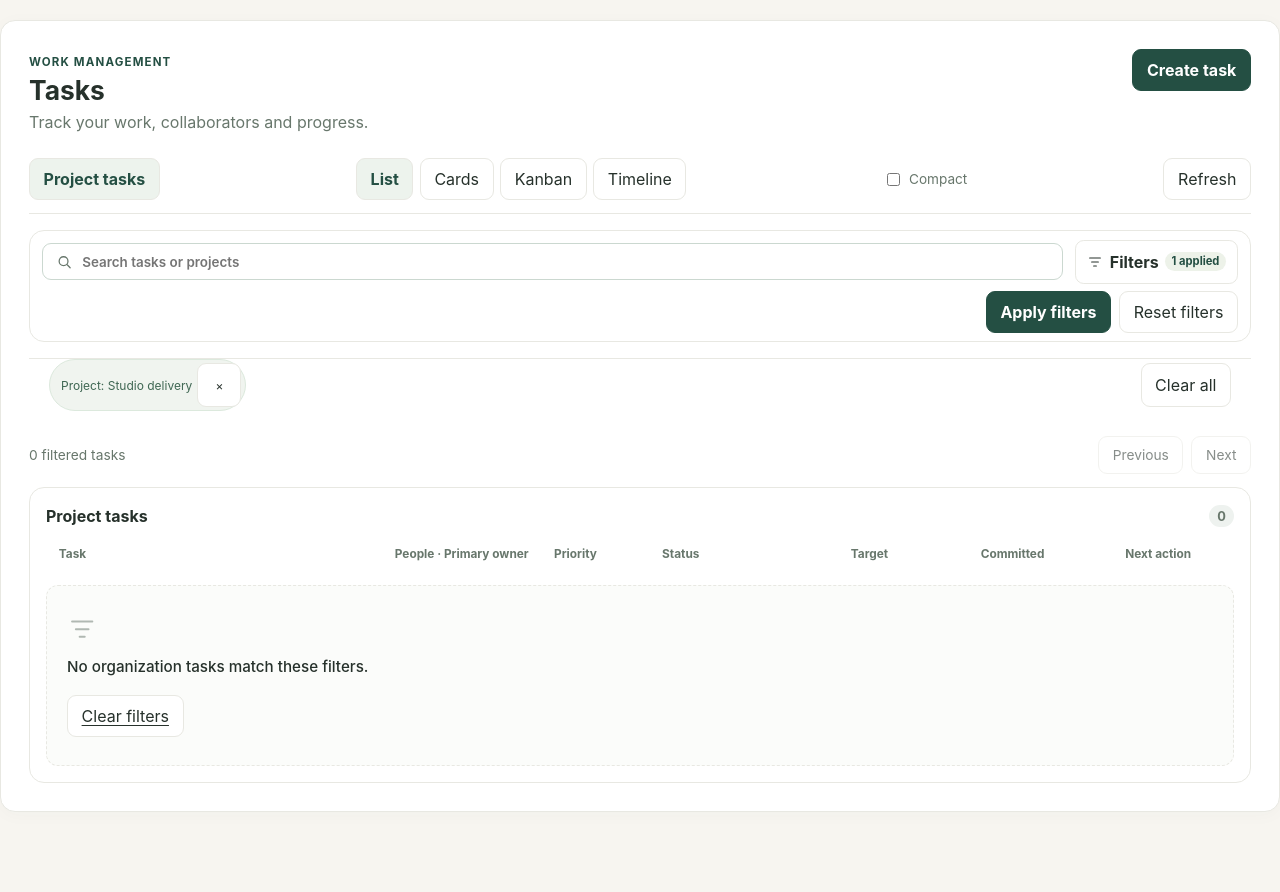
fixed project task workspace › creates with fixed project and opens the canonical ID without replacing project context
Click the button "Create task" at (1192, 70), box [1132, 49, 1251, 91]
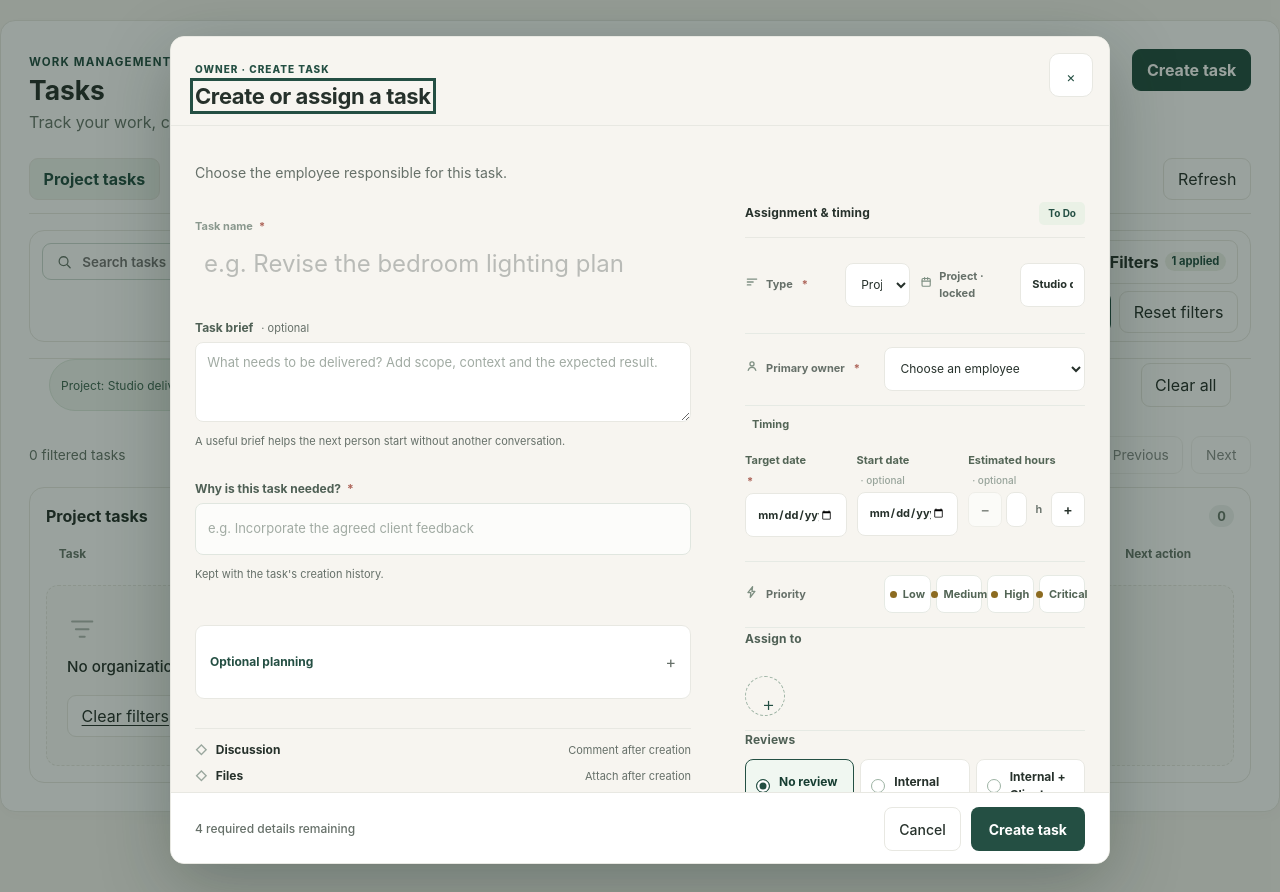
Expected: the dropdown named "Primary owner" is shown
Expected: the field labelled "Project" holds "Studio delivery", [1020, 263, 1085, 307]
Expected: the dropdown labelled "Type" shows "Project", [845, 263, 910, 307]
Select "designer@example.test" in the dropdown named "Primary owner" at (985, 369), box [884, 347, 1085, 391]
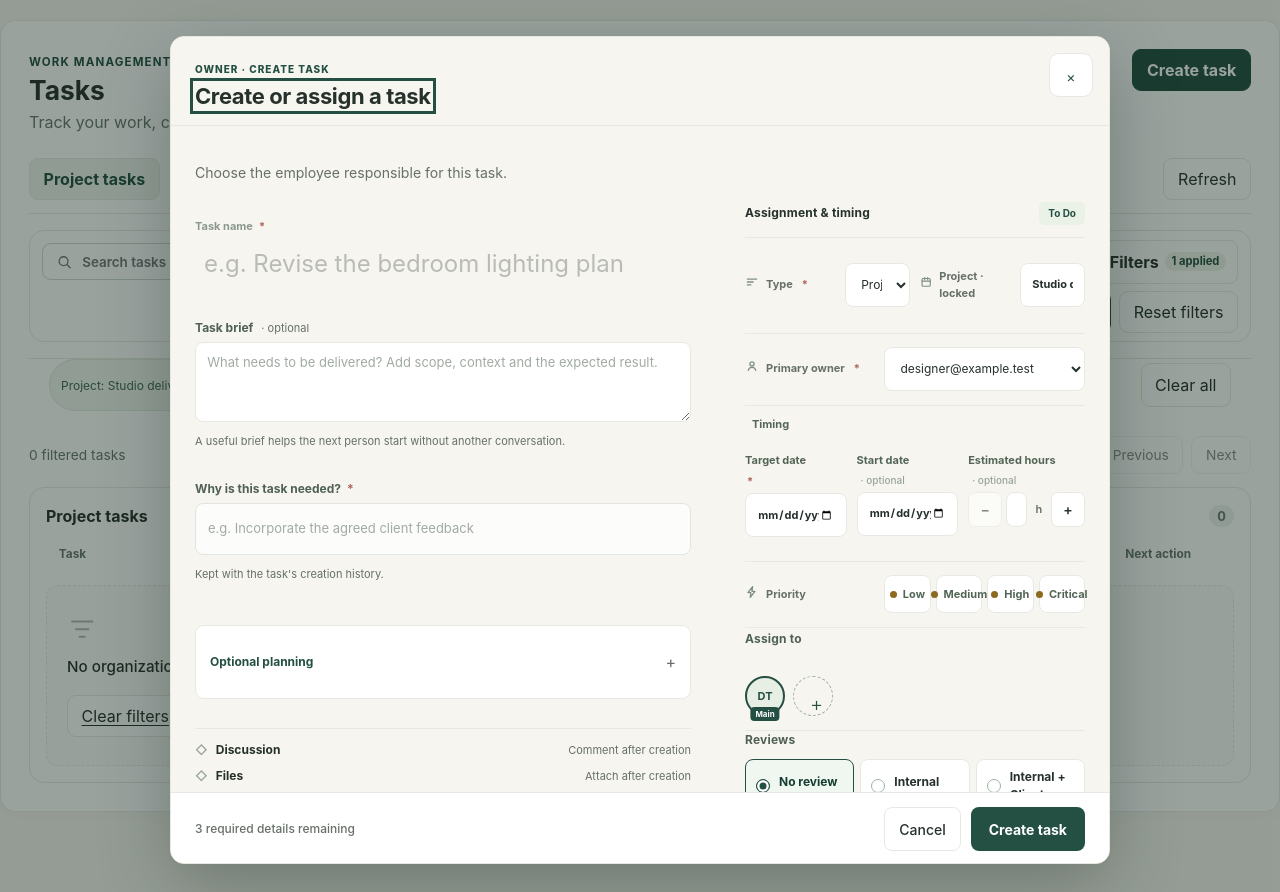
Type "Prepare layout" into the field labelled "Task name" at (443, 264), box [195, 239, 691, 289]
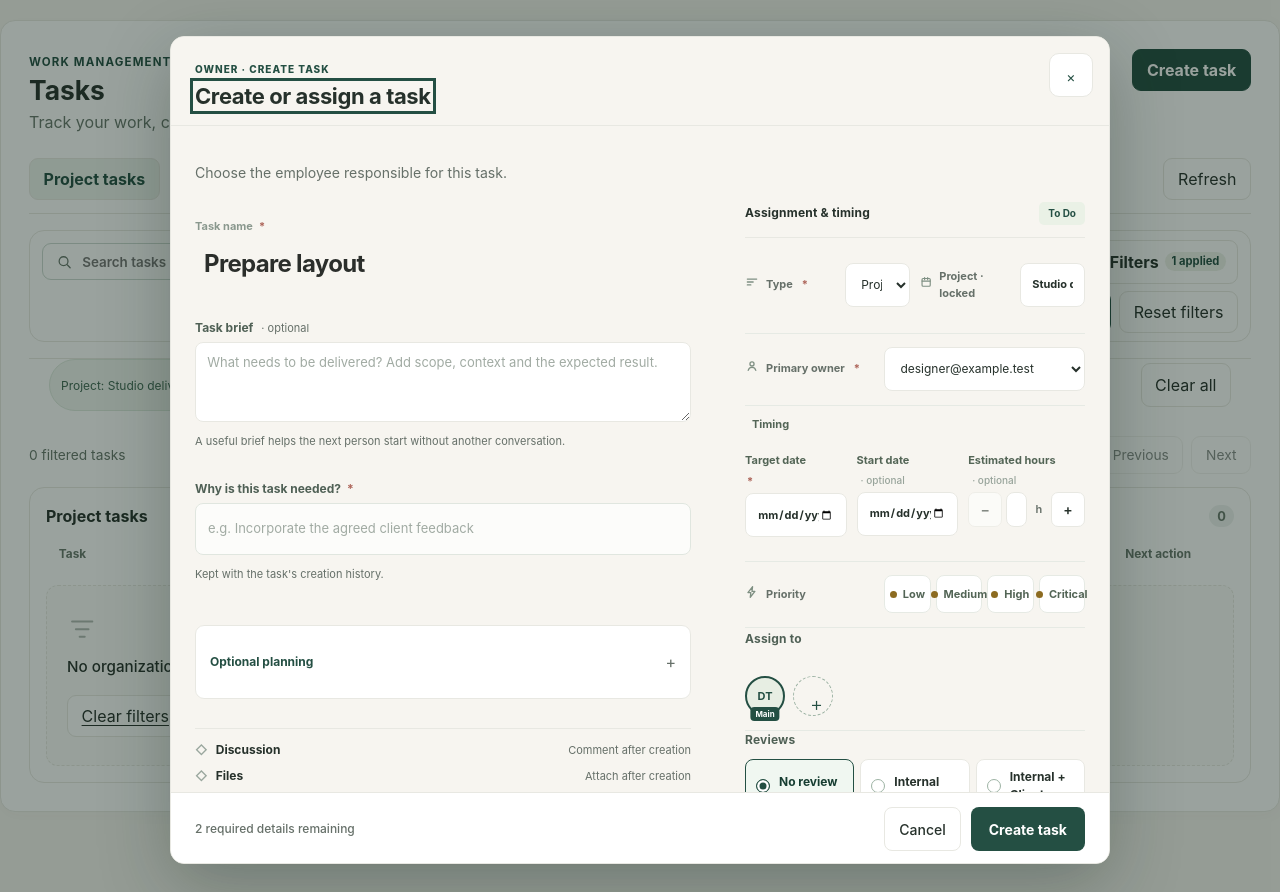
Type "2026-10-20" into the date field labelled "Target date" at (796, 515), box [745, 493, 847, 537]
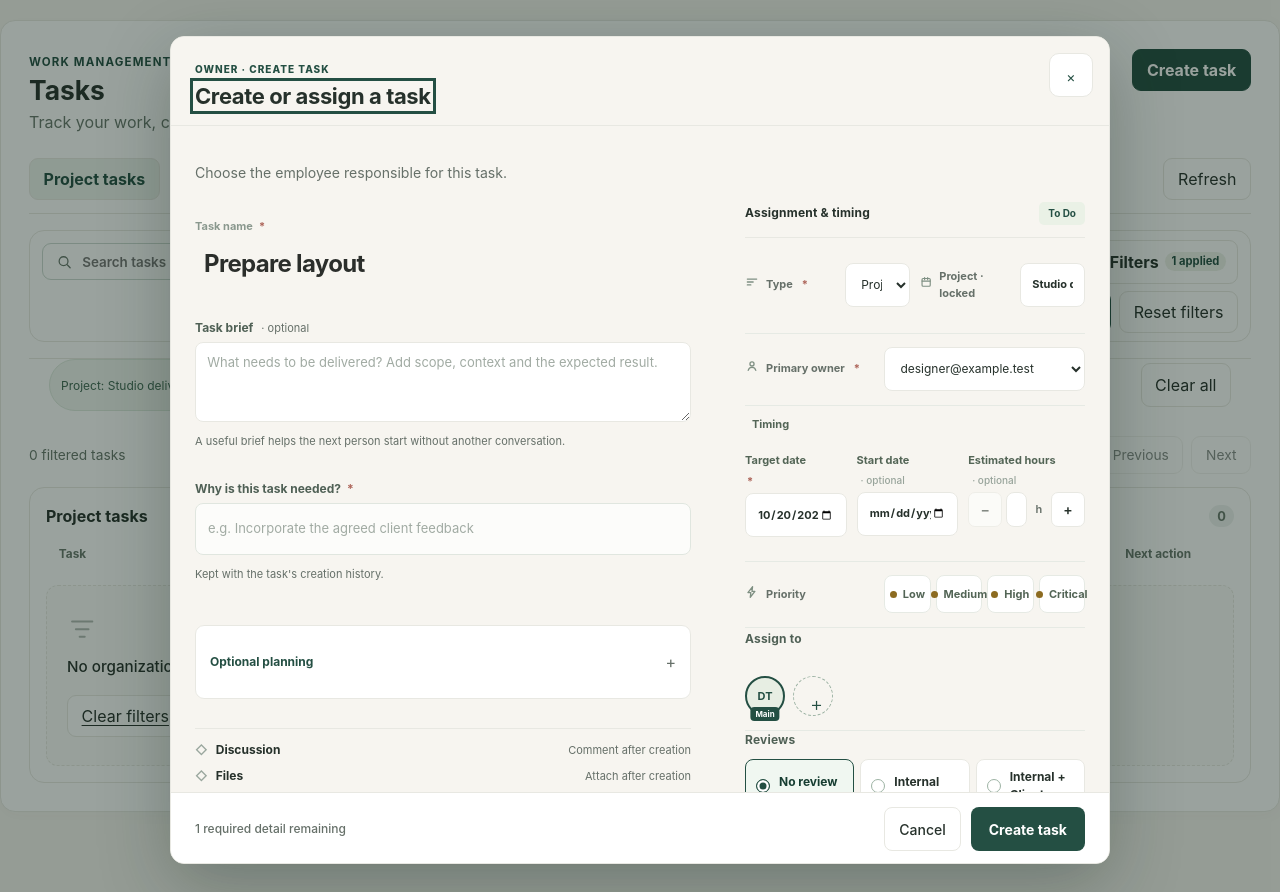
Type "Prepare agreed project layout" into the field named "Reason" at (443, 529), box [195, 503, 691, 555]
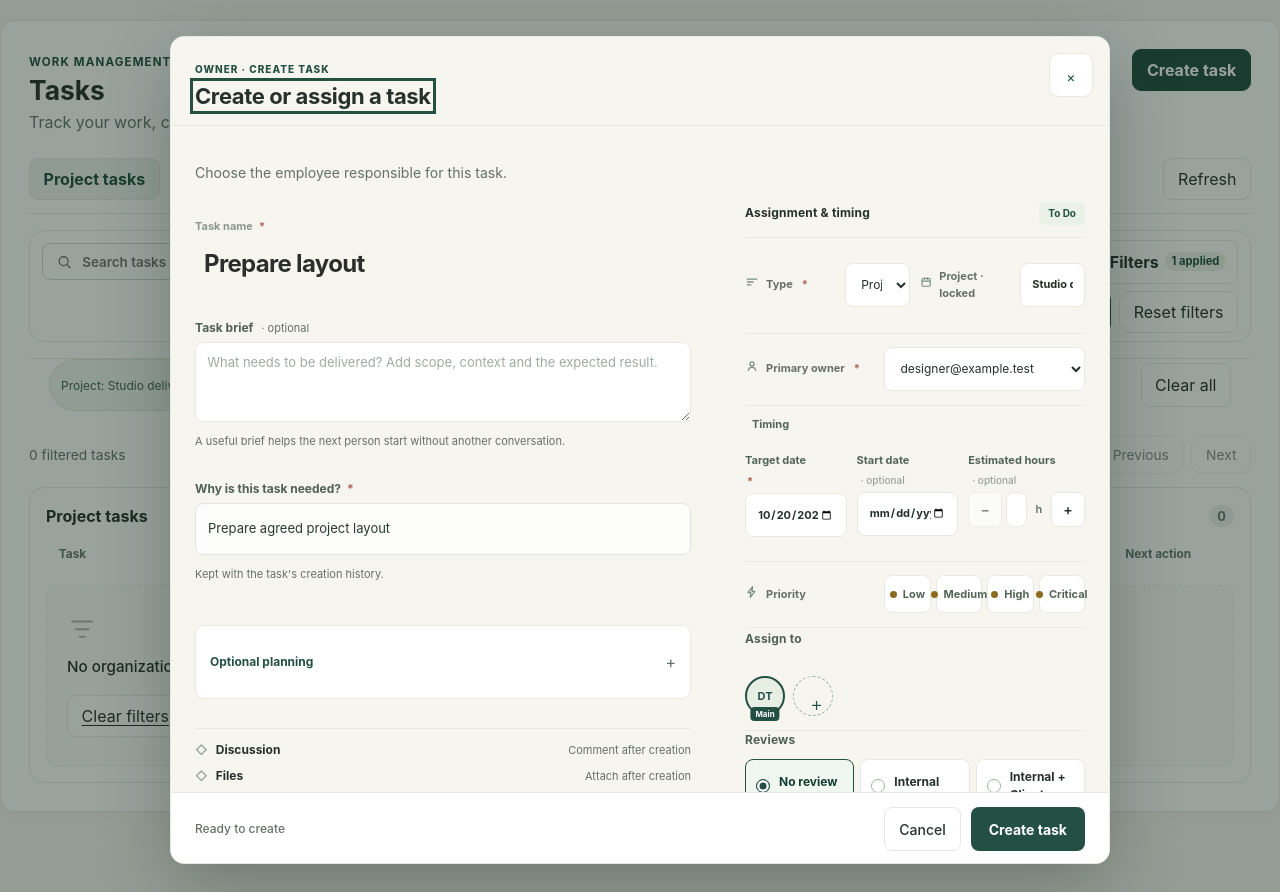
Click the button "Create task" at (1028, 829), box [971, 807, 1085, 851]
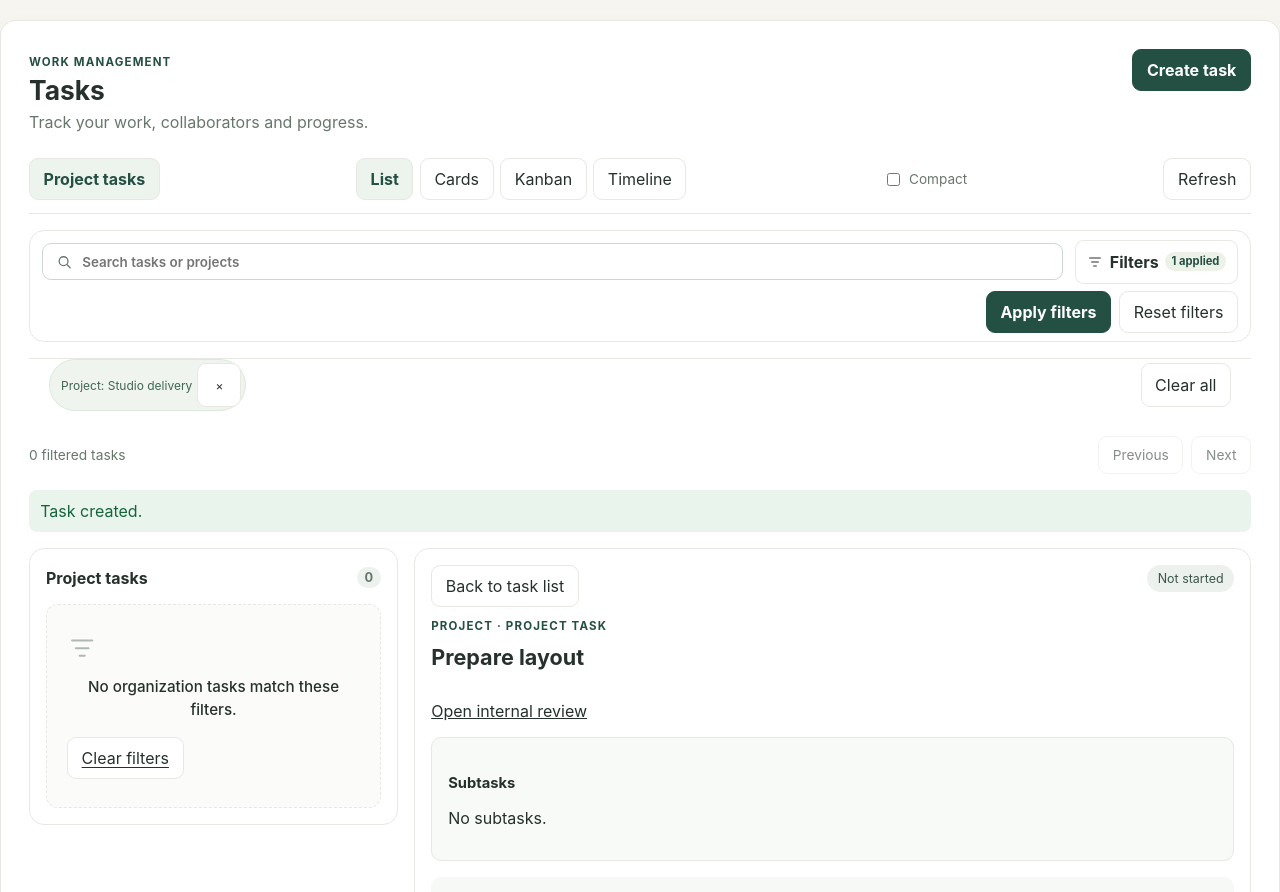
Expected: the heading "Prepare layout" is shown, [431, 644, 607, 670]
